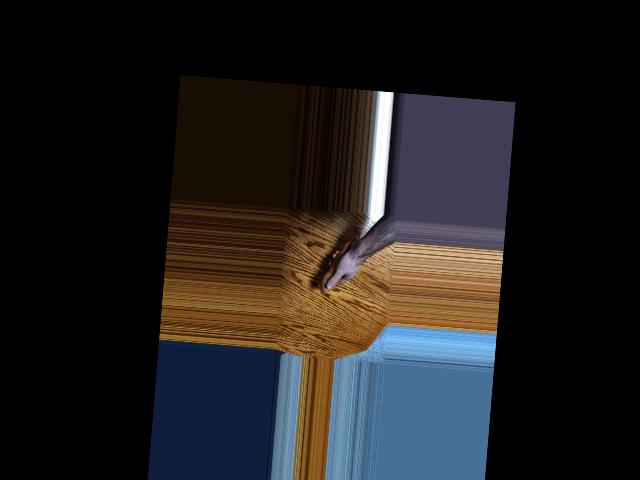sweet_potato: (318, 218, 364, 296)
